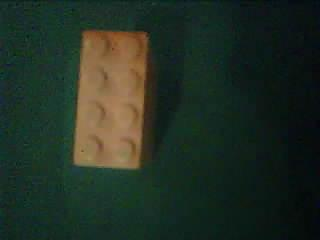lego: (68, 26, 157, 172)
